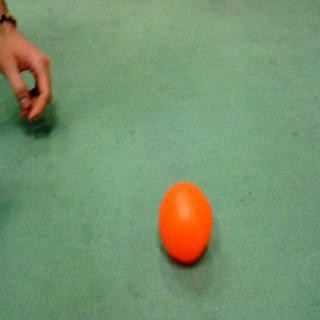orange: (158, 180, 216, 269)
